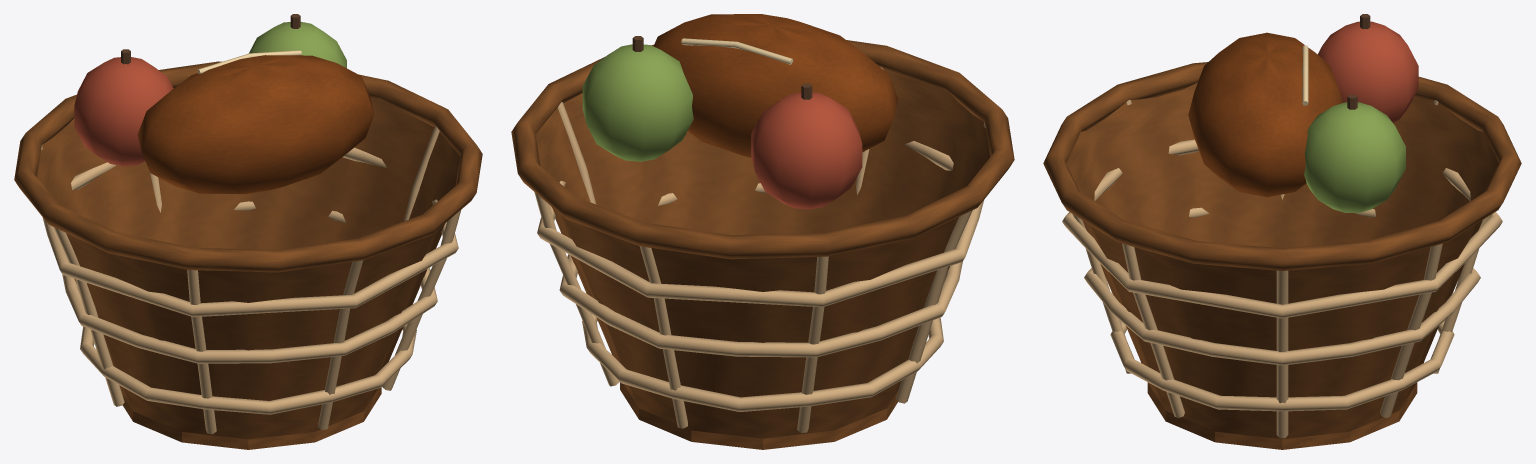
Rendered from basket_wickermarket.fbx.
3 views of the same model, side by side, from view 1: azimuth 30°, elevation 25°; view 2: azimuth 150°, elevation 25°; view 3: azimuth 270°, elevation 25° (orthographic). The views are drawn at different scales.
Parts seen in each view (by area): view 1: Basket • tapered woven base, Basket • country loaf, Basket • reinforced rim, Basket • red apple, Basket • woven course 02, Basket • woven course 01, Basket • woven course 00, Basket • woven bottom, Basket • green apple, Basket • upright reed 04, Basket • upright reed 06, Basket • upright reed 05 (+3 smaller); view 2: Basket • tapered woven base, Basket • reinforced rim, Basket • country loaf, Basket • red apple, Basket • green apple, Basket • woven course 02, Basket • woven course 01, Basket • woven course 00, Basket • woven bottom, Basket • upright reed 04, Basket • upright reed 02, Basket • upright reed 03 (+3 smaller); view 3: Basket • tapered woven base, Basket • reinforced rim, Basket • country loaf, Basket • green apple, Basket • woven course 02, Basket • red apple, Basket • woven course 01, Basket • woven course 00, Basket • woven bottom, Basket • upright reed 00, Basket • upright reed 07, Basket • upright reed 01 (+2 smaller).
Boxes of the visible parts, x1=… form: Basket • tapered woven base: x1=37, y1=98, x2=459, y2=439; Basket • country loaf: x1=137, y1=55, x2=374, y2=194; Basket • reinforced rim: x1=14, y1=61, x2=482, y2=272; Basket • red apple: x1=74, y1=57, x2=173, y2=166; Basket • woven course 02: x1=42, y1=147, x2=458, y2=317; Basket • woven course 01: x1=62, y1=201, x2=437, y2=363; Basket • woven course 00: x1=80, y1=324, x2=416, y2=414; Basket • woven bottom: x1=122, y1=387, x2=381, y2=449; Basket • green apple: x1=249, y1=22, x2=346, y2=68; Basket • upright reed 04: x1=53, y1=227, x2=124, y2=406; Basket • upright reed 06: x1=318, y1=260, x2=363, y2=429; Basket • upright reed 05: x1=187, y1=269, x2=216, y2=434; Basket • tapered woven base: x1=535, y1=71, x2=990, y2=438; Basket • reinforced rim: x1=511, y1=40, x2=1014, y2=259; Basket • country loaf: x1=653, y1=14, x2=898, y2=157; Basket • red apple: x1=751, y1=92, x2=862, y2=209; Basket • green apple: x1=582, y1=44, x2=693, y2=161; Basket • woven course 02: x1=537, y1=141, x2=983, y2=307; Basket • woven course 01: x1=559, y1=183, x2=962, y2=357; Basket • woven course 00: x1=582, y1=314, x2=943, y2=411; Basket • woven bottom: x1=620, y1=382, x2=898, y2=449; Basket • upright reed 04: x1=896, y1=210, x2=972, y2=403; Basket • upright reed 02: x1=639, y1=246, x2=687, y2=428; Basket • upright reed 03: x1=797, y1=256, x2=828, y2=432; Basket • tapered woven base: x1=1066, y1=82, x2=1498, y2=439; Basket • reinforced rim: x1=1043, y1=62, x2=1521, y2=270; Basket • country loaf: x1=1188, y1=32, x2=1342, y2=197; Basket • green apple: x1=1304, y1=102, x2=1405, y2=212; Basket • woven course 02: x1=1062, y1=139, x2=1502, y2=318; Basket • red apple: x1=1318, y1=21, x2=1418, y2=122; Basket • woven course 01: x1=1084, y1=207, x2=1480, y2=365; Basket • woven course 00: x1=1110, y1=321, x2=1454, y2=411; Basket • woven bottom: x1=1147, y1=383, x2=1417, y2=449; Basket • upright reed 00: x1=1276, y1=270, x2=1288, y2=438; Basket • upright reed 07: x1=1122, y1=243, x2=1184, y2=417; Basket • upright reed 01: x1=1380, y1=243, x2=1442, y2=417.
Bounding box in the file's own units: 0.376 × 0.293 × 0.376.
7 materials, 2 textured.
